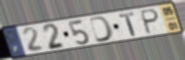2: (41, 23, 67, 51), (22, 26, 46, 53)
5: (67, 18, 92, 46)
D: (88, 15, 115, 44)
P: (140, 8, 161, 36)
T: (118, 11, 137, 38)
